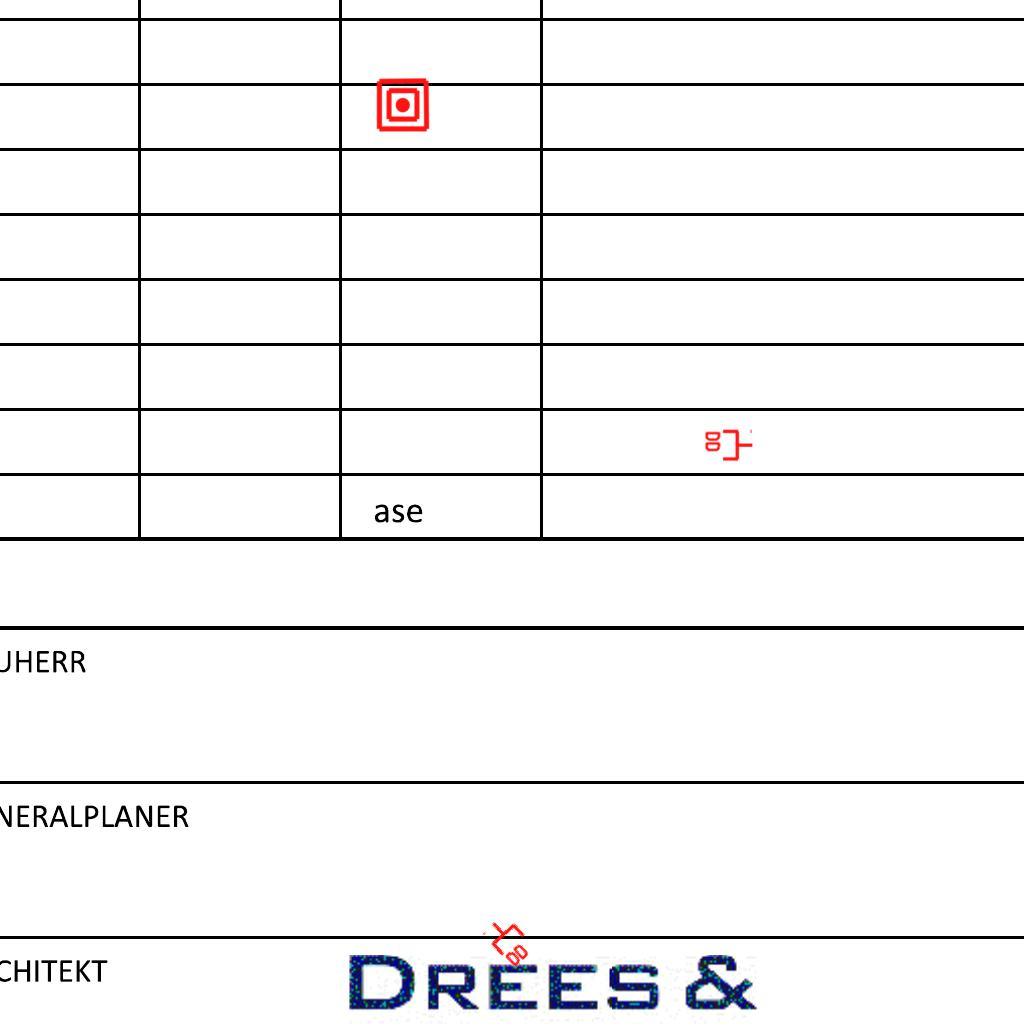Datenanschluss_zweifach: (480, 910, 540, 971), (703, 429, 754, 463)
NAM-Nichtautomatischer_Melder: (375, 77, 431, 133)
